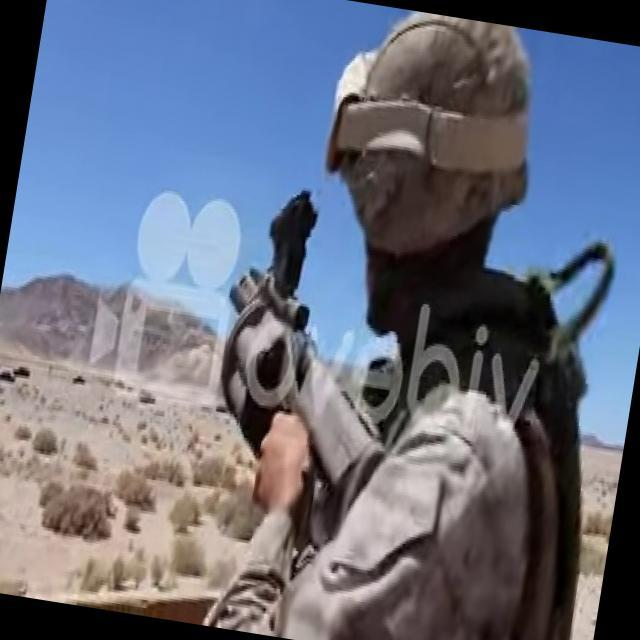rocket: (193, 182, 418, 548)
